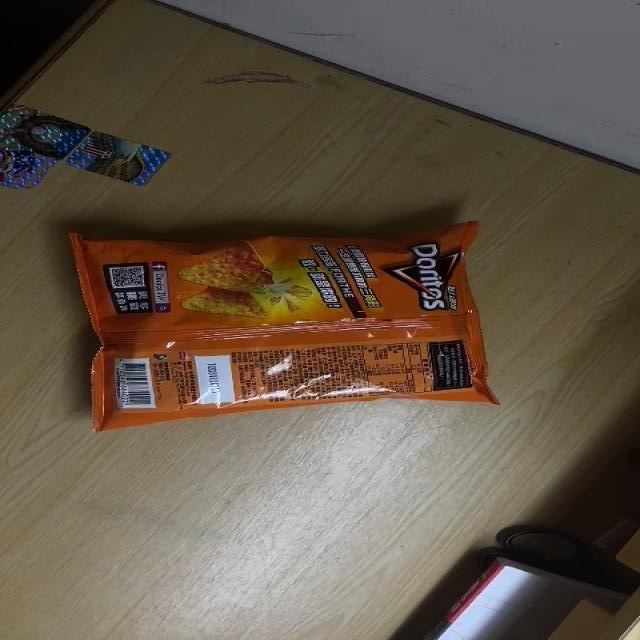Doritos: (68, 223, 499, 434)
